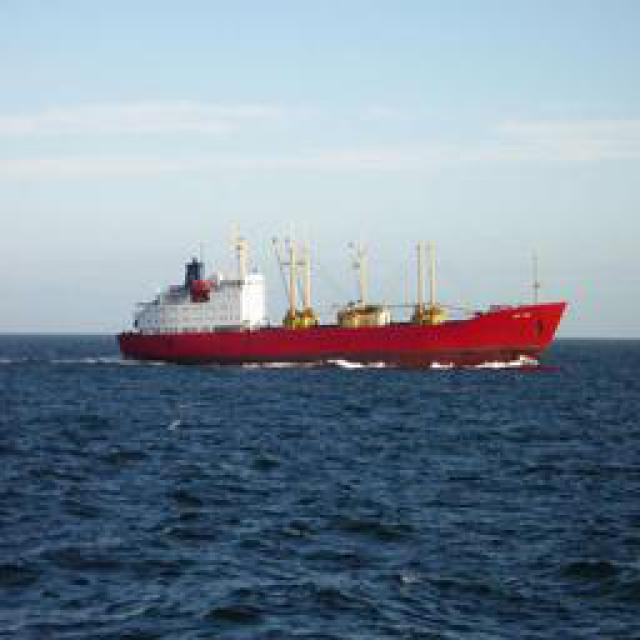Ship: (119, 235, 569, 368)
